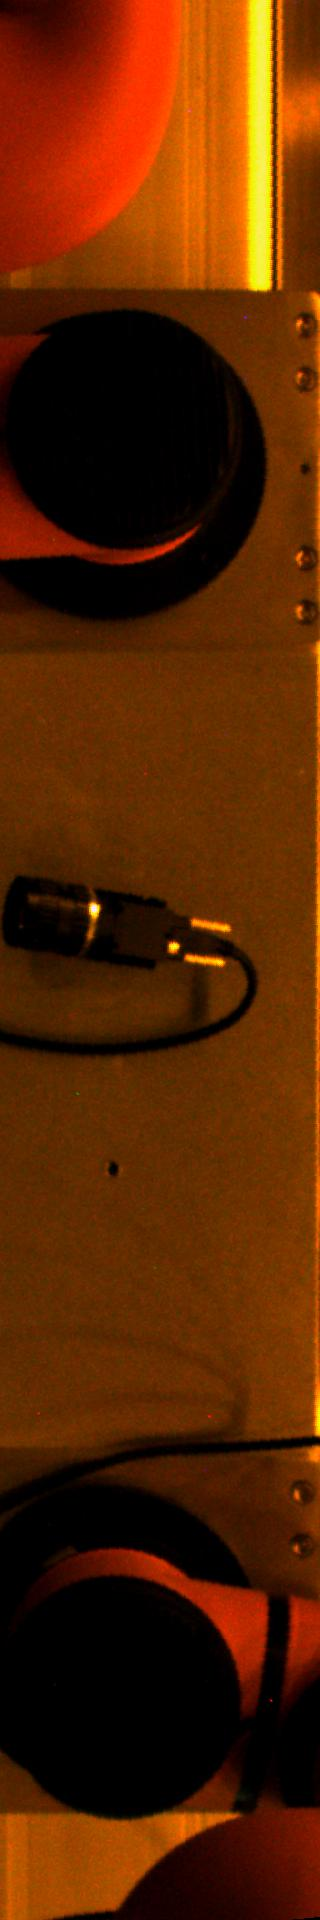keyPoint_2: (97, 1153, 128, 1184)
